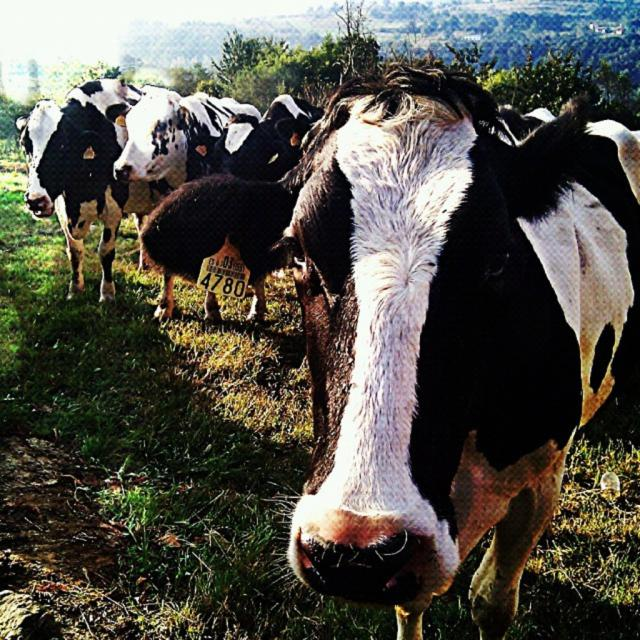Cattle: (17, 62, 640, 640)
